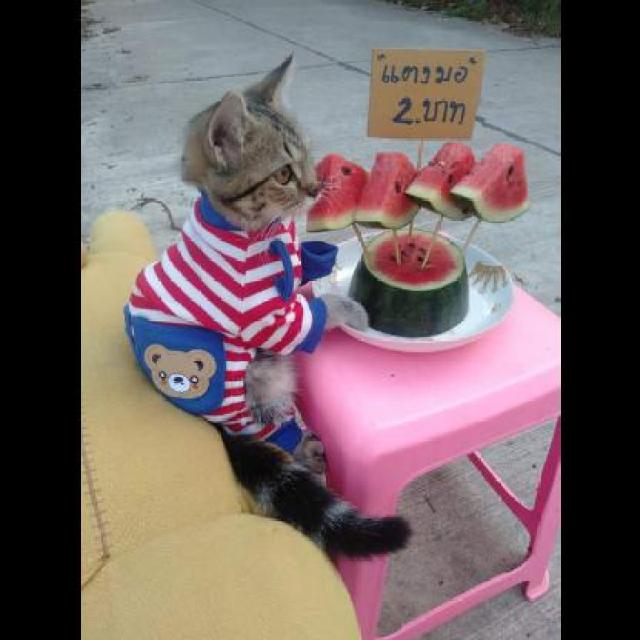unauthorized: (123, 49, 411, 562)
